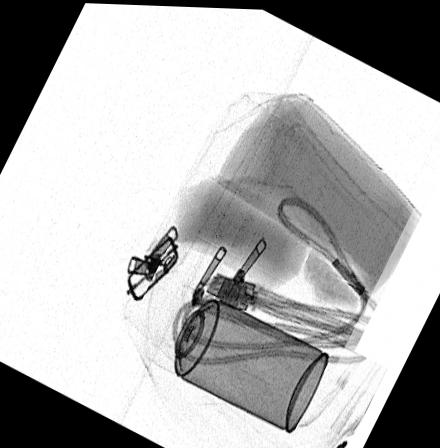Sprayer: (136, 279, 327, 431)
